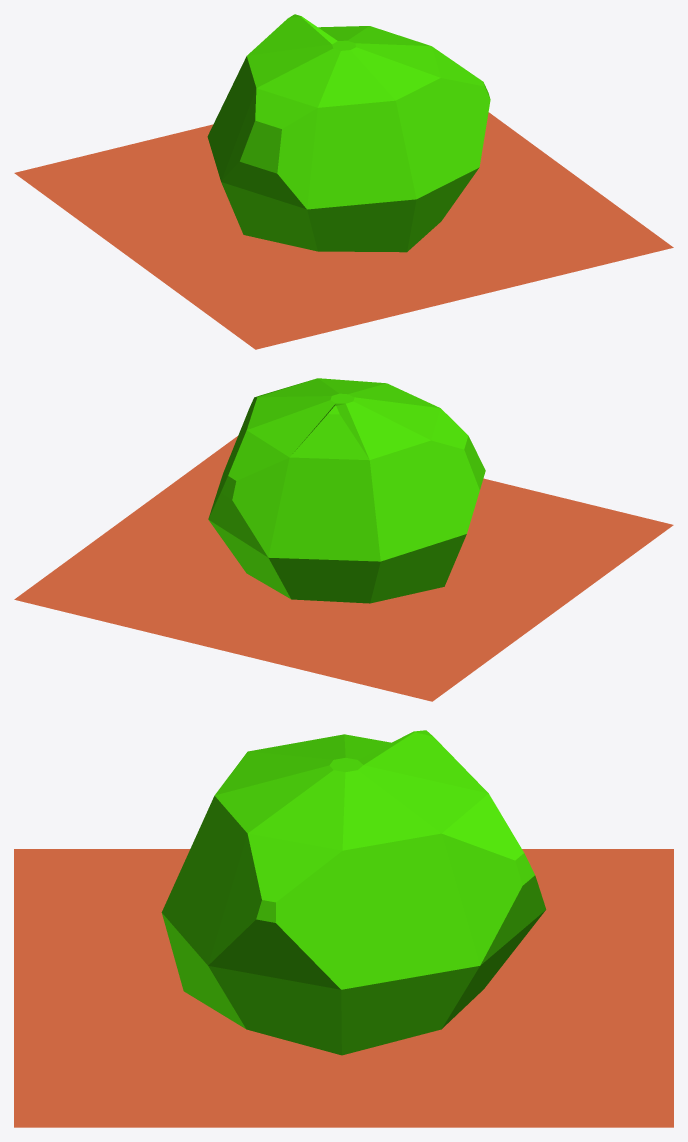
The model's file is räriteten1.glb.
The picture shows the model from 3 angles, top to bottom: view 1: azimuth 30°, elevation 25°; view 2: azimuth 150°, elevation 25°; view 3: azimuth 270°, elevation 25°; orthographic projection. The views are drawn at different scales.
Parts seen in each view (by area): view 1: Plane.001, Plane; view 2: Plane.001, Plane; view 3: Plane.001, Plane.
Part boxes in pixels (box(x1,y1,x2,y2)): Plane.001: box(14, 112, 673, 349); Plane: box(207, 14, 490, 252); Plane.001: box(14, 436, 673, 701); Plane: box(208, 378, 485, 603); Plane.001: box(14, 849, 673, 1127); Plane: box(161, 730, 546, 1055).
Bounding box in the file's own units: 2 × 0.8192 × 2.
